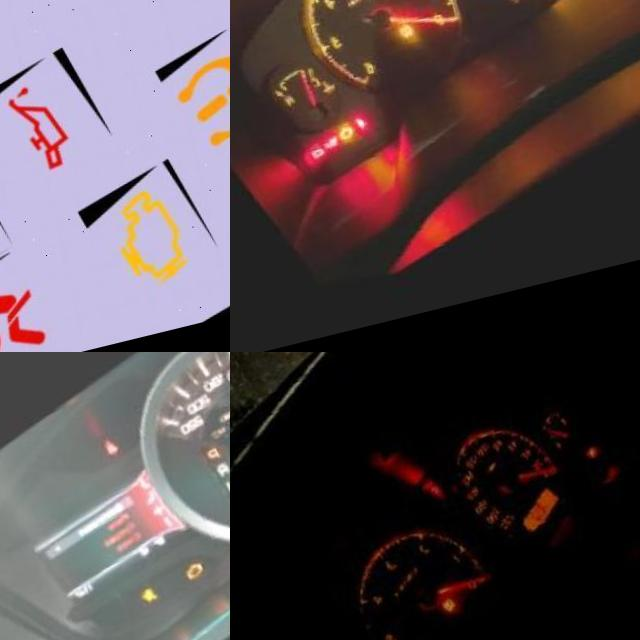High Engine Coolant Temperature: (295, 95, 317, 117)
Seat Belt: (329, 134, 345, 152)
